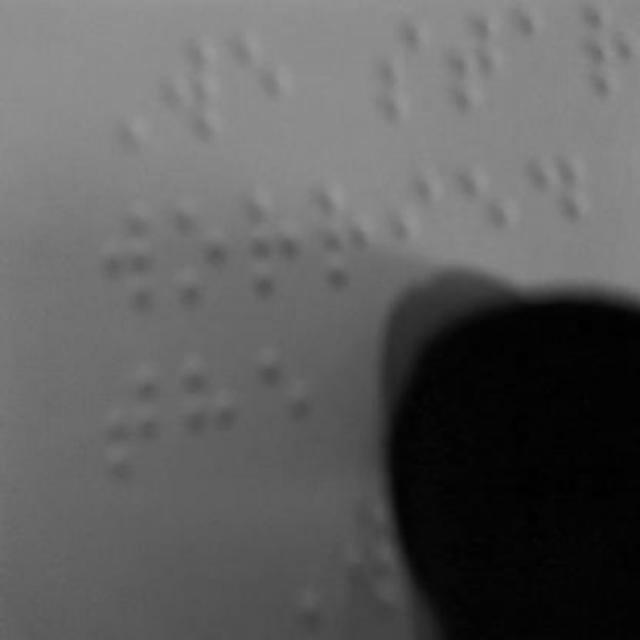braiile: (250, 337, 322, 478), (318, 161, 390, 293), (179, 344, 245, 488), (173, 178, 245, 306), (105, 346, 168, 490), (248, 165, 316, 298), (101, 180, 167, 312), (460, 150, 522, 288), (160, 28, 230, 146), (392, 160, 454, 290), (378, 15, 444, 130)
